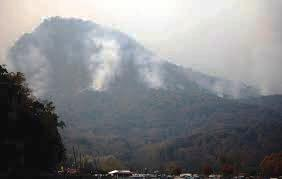smoke: (18, 45, 59, 104), (82, 40, 123, 96), (135, 53, 170, 95)
